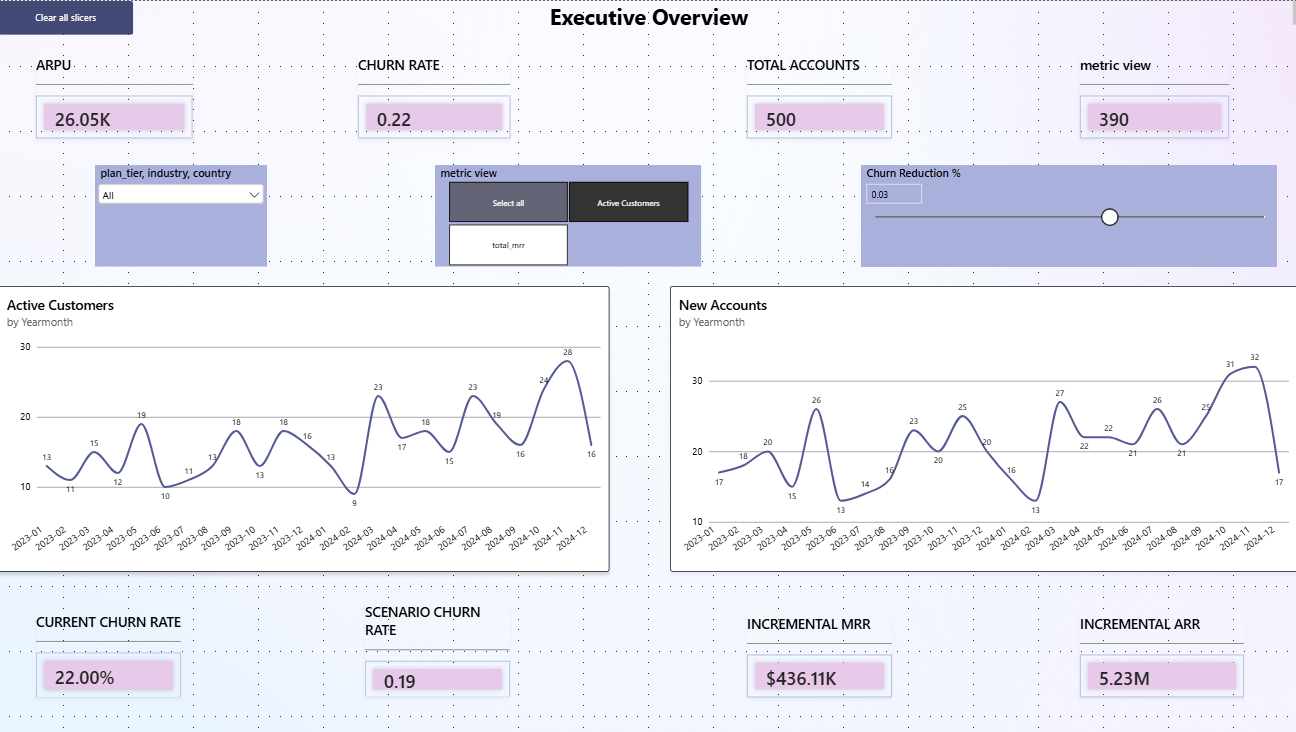

The page's visual inventory and layout, read from the dashboard file:
{"tool":"powerbi","page":{"name":"Page 1","canvas":[1920,1080],"ordinal":0},"visuals":[{"type":"textbox","box":[10.2,0,1909.8,39.4],"z":0},{"type":"cardVisual","title":" TOTAL ACCOUNTS","fields":{"Data":["_Measures.Total Accounts"]},"box":[1106.6,80.4,214.4,123],"z":1000},{"type":"cardVisual","title":"metric view","fields":{"Data":["_Measures.Active Customers"]},"box":[1598.4,80.4,220.7,123],"z":2000},{"type":"cardVisual","title":"  CHURN RATE","fields":{"Data":["_Measures.churn_rate"]},"box":[531.2,80.4,225.4,123],"z":3000},{"type":"cardVisual","title":"ARPU","fields":{"Data":["_Measures.ARPU"]},"box":[56.7,80.4,231.7,123],"z":4000},{"type":"lineChart","fields":{"Y":["_Measures.Active Customers"],"Category":["dim_date.Yearmonth"]},"box":[0,420.9,903.3,422.5],"z":5000},{"type":"lineChart","fields":{"Y":["_Measures.New Accounts"],"Category":["dim_date.Yearmonth"]},"box":[993.1,420.9,926.9,422.5],"z":6000},{"type":"slicer","fields":{"Values":["accounts.plan_tier","accounts.industry","accounts.country"]},"box":[143.4,242.8,253.8,149.8],"z":7000},{"type":"slicer","fields":{"Values":["metric view.metric view"]},"box":[644.7,242.8,392.5,149.8],"z":8000},{"type":"actionButton","box":[0,0,200,50],"z":8001},{"type":"slicer","fields":{"Values":["Churn Reduction %.Churn Reduction %"]},"box":[1275.3,242.8,613.2,149.8],"z":8002},{"type":"cardVisual","title":"CURRENT CHURN RATE","fields":{"Data":["_Measures.churn_rate"]},"box":[56.7,901.7,214.4,126.1],"z":8003},{"type":"cardVisual","title":"INCREMENTAL ARR","fields":{"Data":["_Measures.Incremental ARR"]},"box":[1598.4,904.8,242.8,123],"z":8004},{"type":"cardVisual","title":"INCREMENTAL MRR","fields":{"Data":["_Measures.Incremental MRR"]},"box":[1106.6,904.8,214.4,123],"z":8005},{"type":"cardVisual","title":"SCENARIO CHURN RATE","fields":{"Data":["Churn Reduction %.Scenario Churn Rate"]},"box":[542.3,887.5,214.4,140.3],"z":8006}]}

Visuals, with their boxes in screenshot pixels (x1, y1, x2, y2), scaled from the page's 1920x1080 canvas onto the 1296x732 screenshot:
textbox: 7,0,1295,27
" TOTAL ACCOUNTS" cardVisual: 747,54,892,138
"metric view" cardVisual: 1079,54,1228,138
"  CHURN RATE" cardVisual: 359,54,511,138
"ARPU" cardVisual: 38,54,195,138
lineChart - _Measures.Active Customers x dim_date.Yearmonth: 0,285,610,572
lineChart - _Measures.New Accounts x dim_date.Yearmonth: 670,285,1295,572
slicer - accounts.plan_tier x accounts.industry: 97,165,268,266
slicer - metric view.metric view: 435,165,700,266
actionButton: 0,0,135,34
slicer - Churn Reduction %.Churn Reduction %: 861,165,1275,266
"CURRENT CHURN RATE" cardVisual: 38,611,183,697
"INCREMENTAL ARR" cardVisual: 1079,613,1243,697
"INCREMENTAL MRR" cardVisual: 747,613,892,697
"SCENARIO CHURN RATE" cardVisual: 366,602,511,697
